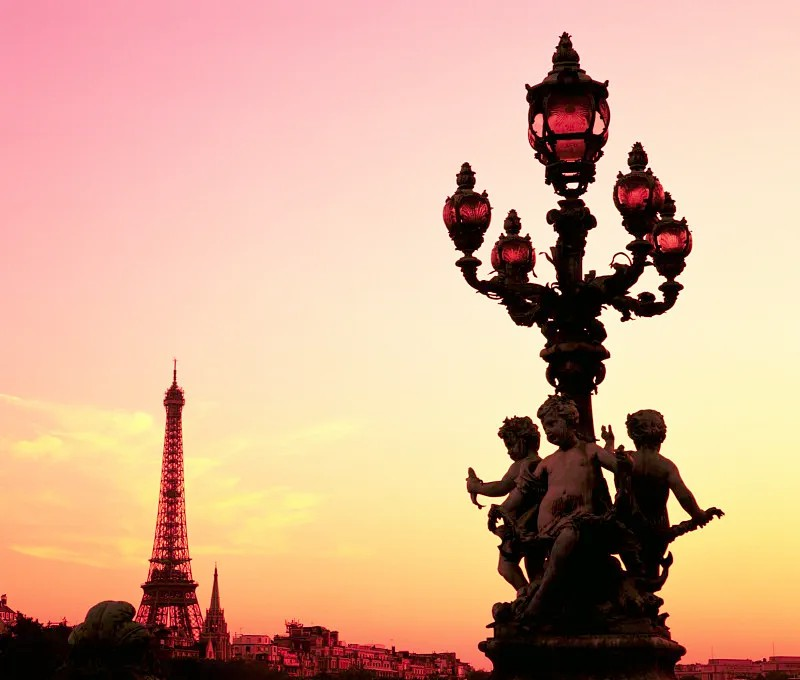Eiffel: (133, 355, 206, 647)
